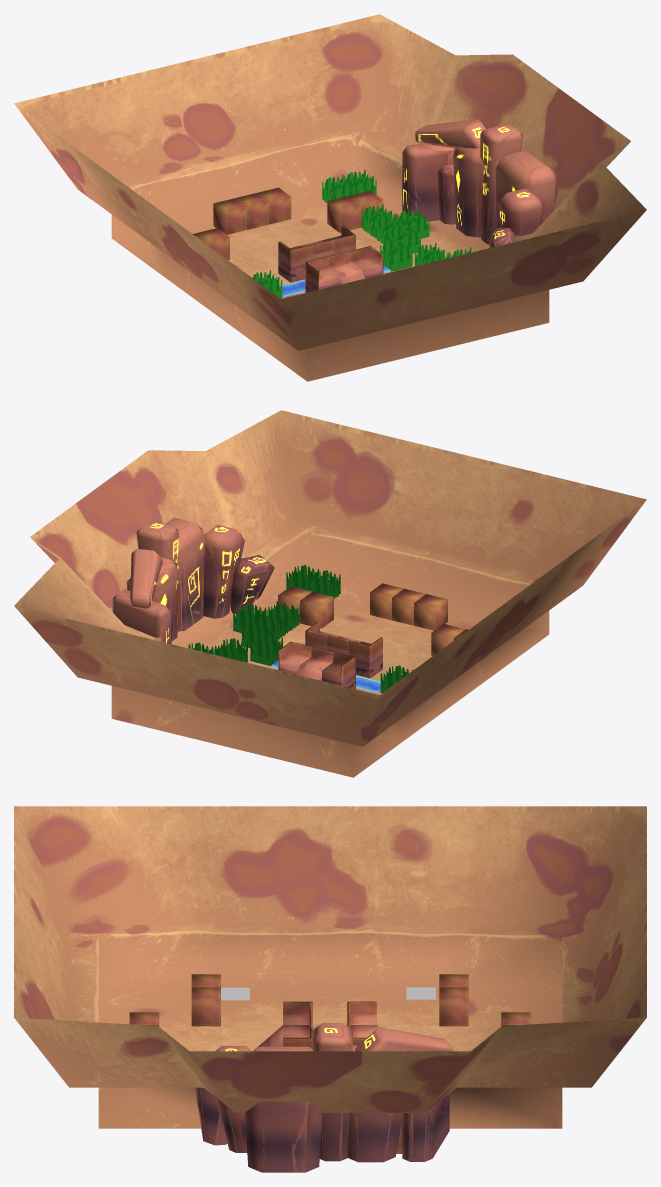
File: Allmappattle2.2.fbx
3 views of the same model, one above another, from view 1: azimuth 30°, elevation 25°; view 2: azimuth 150°, elevation 25°; view 3: azimuth 270°, elevation 25° (orthographic). The views are drawn at different scales.
Visible parts, largest first — view 1: terrain1, pCube21, pCube17, pCube19, pCube18, pCube16, pCube22, polySurface3155, polySurface116, polySurface257, pCube20, polySurface3152 (+10 smaller); view 2: terrain1, pCube16, pCube17, pCube21, pCube15, pCube18, pCube22, pCube19, polySurface3152, polySurface176, polySurface258, polySurface3155 (+11 smaller); view 3: terrain1, pCube17, pCube19, pCube18, pCube21, pCube22, pCube15, polySurface259, polySurface260, pCube16, polySurface3152, polySurface3155 (+1 smaller).
Part boxes in pixels (left/top/right/bottom): terrain1: left=14, top=14, right=646, bottom=381; pCube21: left=402, top=144, right=454, bottom=221; pCube17: left=495, top=150, right=557, bottom=228; pCube19: left=453, top=147, right=484, bottom=237; pCube18: left=480, top=123, right=522, bottom=244; pCube16: left=497, top=188, right=544, bottom=235; pCube22: left=415, top=119, right=486, bottom=148; polySurface3155: left=278, top=241, right=312, bottom=282; polySurface116: left=213, top=198, right=247, bottom=234; polySurface257: left=327, top=196, right=361, bottom=232; pCube20: left=437, top=164, right=455, bottom=224; polySurface3152: left=305, top=256, right=339, bottom=292; terrain1: left=14, top=410, right=646, bottom=777; pCube16: left=203, top=524, right=244, bottom=618; pCube17: left=165, top=517, right=204, bottom=631; pCube21: left=112, top=589, right=170, bottom=643; pCube15: left=231, top=555, right=274, bottom=613; pCube18: left=136, top=521, right=178, bottom=641; pCube22: left=130, top=549, right=162, bottom=609; pCube19: left=126, top=557, right=177, bottom=643; polySurface3152: left=349, top=637, right=382, bottom=678; polySurface176: left=414, top=594, right=447, bottom=630; polySurface258: left=300, top=592, right=333, bottom=628; polySurface3155: left=322, top=652, right=355, bottom=689; terrain1: left=14, top=806, right=646, bottom=1153; pCube17: left=245, top=1046, right=322, bottom=1172; pCube19: left=347, top=1045, right=402, bottom=1162; pCube18: left=312, top=1023, right=352, bottom=1161; pCube21: left=402, top=1093, right=449, bottom=1161; pCube22: left=355, top=1027, right=452, bottom=1051; pCube15: left=195, top=1087, right=227, bottom=1145; polySurface259: left=439, top=987, right=468, bottom=1026; polySurface260: left=191, top=987, right=220, bottom=1026; pCube16: left=216, top=1046, right=251, bottom=1152; polySurface3152: left=283, top=1001, right=312, bottom=1024; polySurface3155: left=347, top=1001, right=376, bottom=1024.
Bounding box in the file's own units: 98.27 × 27.51 × 107.
